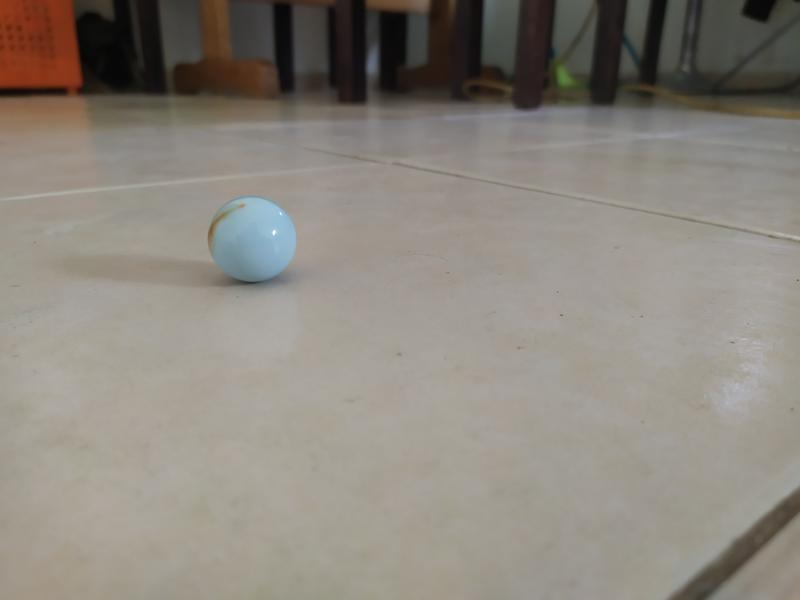Warning: (204, 191, 299, 286)
